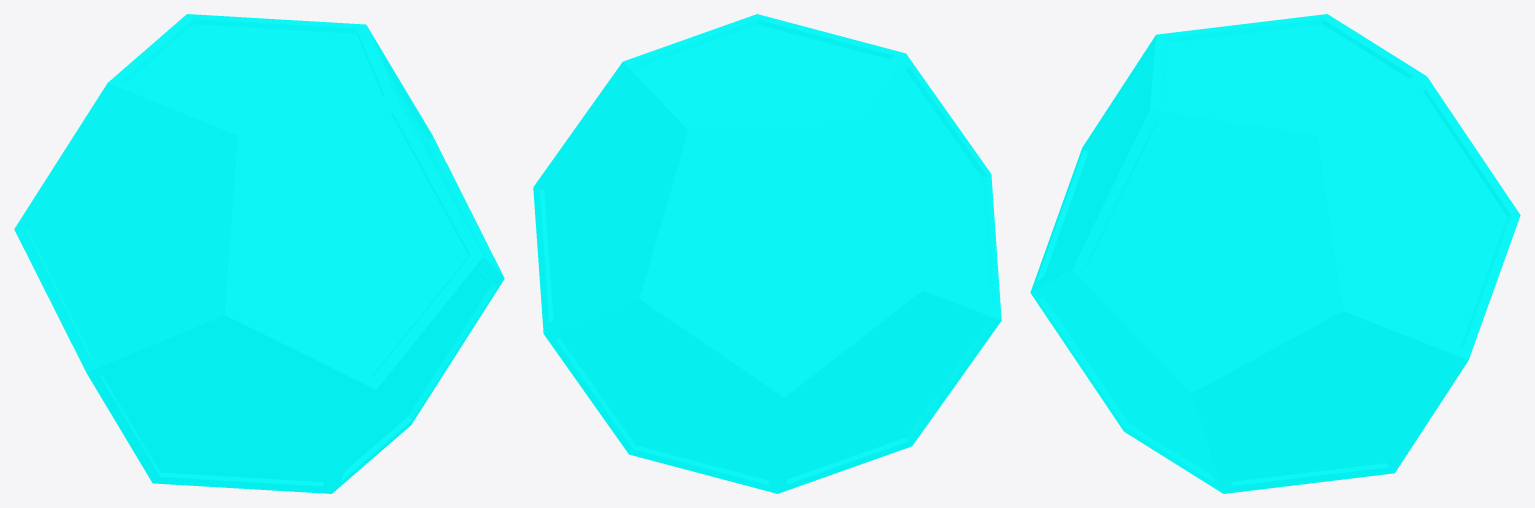
The model's file is SFI0210010.fbx.
The picture shows the model from 3 angles, left to right: view 1: azimuth 30°, elevation 25°; view 2: azimuth 150°, elevation 25°; view 3: azimuth 270°, elevation 25°; orthographic projection. The views are drawn at different scales.
Parts seen in each view (by area): view 1: smSFI0210010; view 2: smSFI0210010; view 3: smSFI0210010.
Part boxes in pixels (x1=…): smSFI0210010: x1=14, y1=14, x2=504, y2=493; smSFI0210010: x1=533, y1=14, x2=1001, y2=493; smSFI0210010: x1=1030, y1=14, x2=1520, y2=493.
Bounding box in the file's own units: 134 × 113 × 139.
